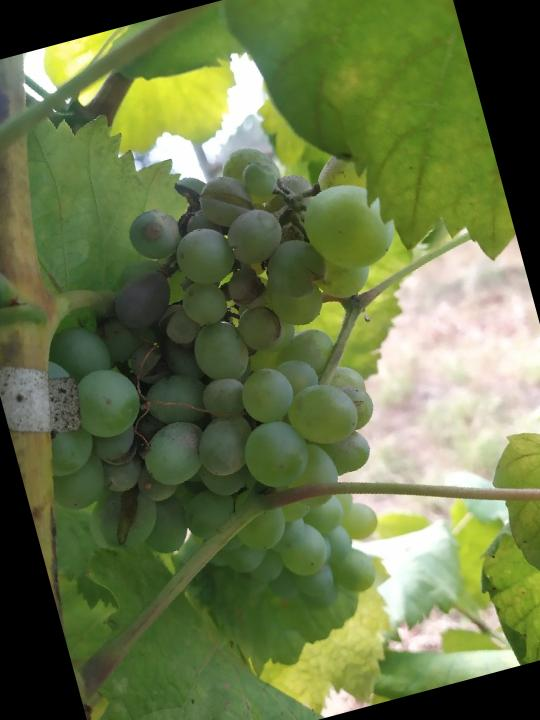grape: (0, 110, 457, 547)
